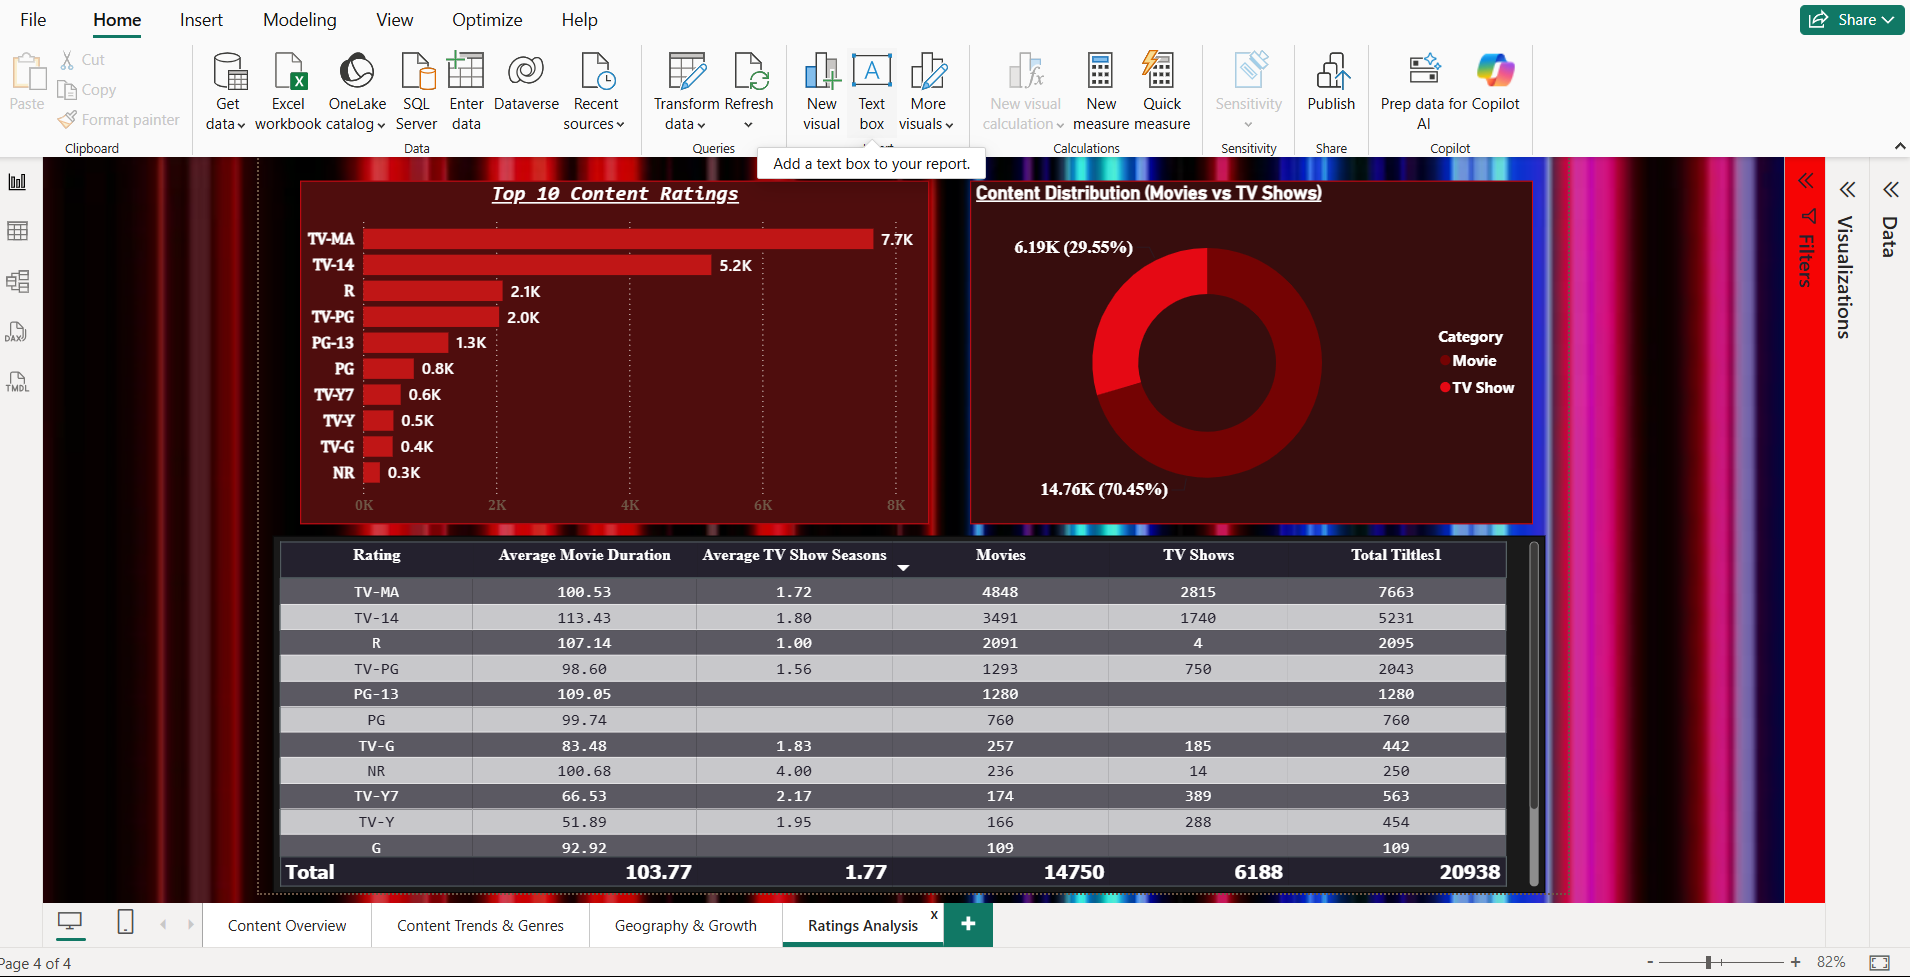

The dashboard page shown, as its layout file describes it:
{"tool":"powerbi","page":{"name":"Page 3","canvas":[1280,720],"ordinal":3},"visuals":[{"type":"tableEx","fields":{"Values":["Netflix Dataset.Rating","Measure  Table1.Average Movie Duration","Measure  Table1.Average TV Show Seasons","Measure  Table1.Movies","Measure  Table1.TV Shows","Measure  Table1.Total Tiltles1"]},"box":[13.5,370.5,1244.8,349.7],"z":0},{"type":"clusteredBarChart","title":"Top 10 Content Ratings","fields":{"Category":["Netflix Dataset.Rating"],"Y":["CountNonNull(Netflix Dataset.Show_Id)"]},"box":[40.4,23.2,615.1,336.3],"z":1000},{"type":"donutChart","title":"Content Distribution (Movies vs TV Shows)","fields":{"Category":["Netflix Dataset.Category"],"Y":["CountNonNull(Netflix Dataset.Show_Id)"]},"box":[695.8,23.2,550.3,336.3],"z":2000}]}

Visuals, with their boxes on the page's 1280x720 design canvas (x1, y1, x2, y2). These are canvas units, not pixel positions in the 1910x977 screenshot, which may show the page scaled, cropped or inside an application window:
tableEx - Netflix Dataset.Rating x Measure  Table1.Average Movie Duration: 14,370,1258,720
"Top 10 Content Ratings" clusteredBarChart: 40,23,656,360
"Content Distribution (Movies vs TV Shows)" donutChart: 696,23,1246,360
